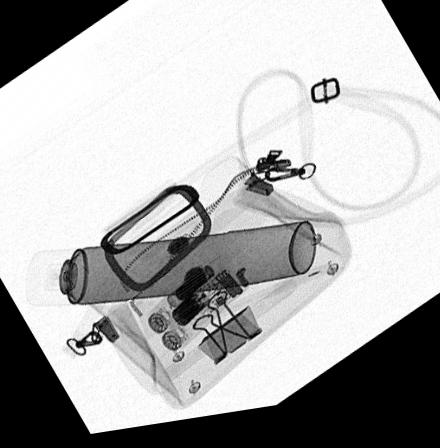Sprayer: (25, 230, 315, 309)
